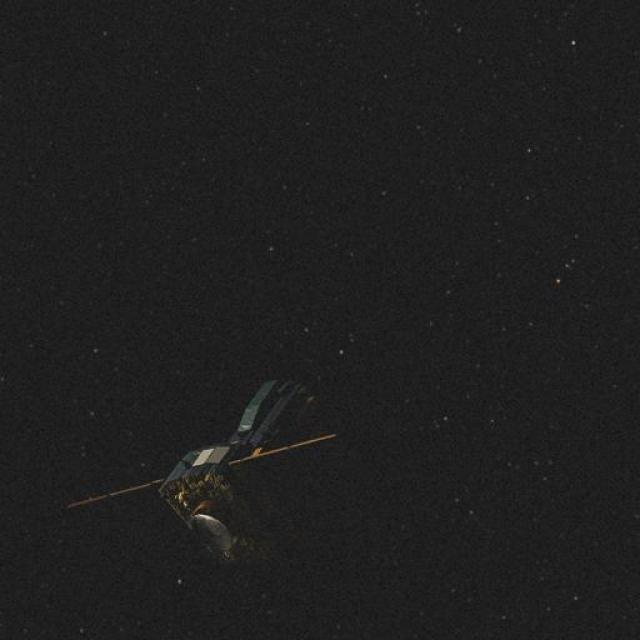soho: (118, 352, 342, 587)
